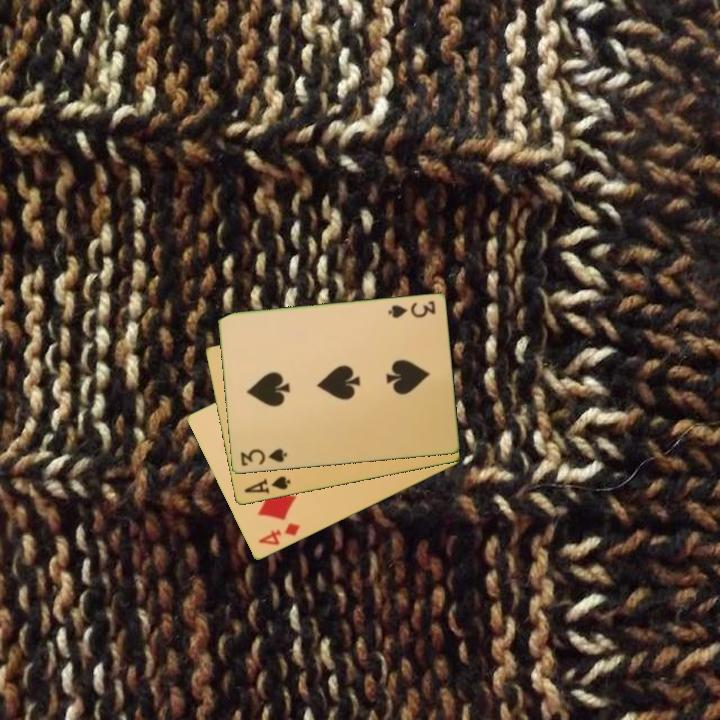3s: (384, 297, 438, 321), (237, 445, 289, 469)
4d: (254, 519, 303, 549)
As: (240, 473, 293, 497)
